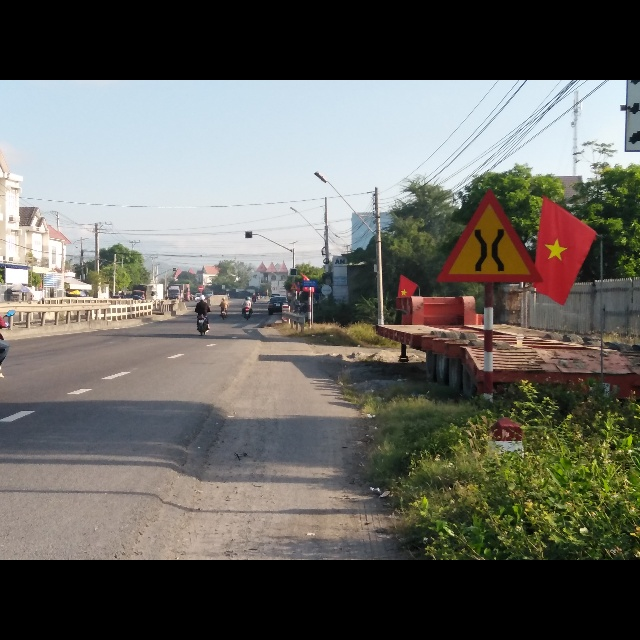Cầu hẹp: (436, 190, 542, 284)
